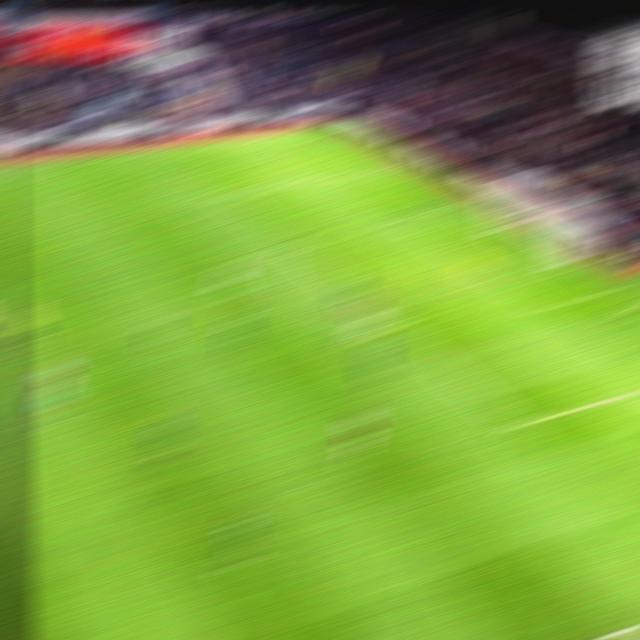bigarea_bottom_inner: (497, 413, 534, 433)
bigarea_top_inner: (208, 186, 240, 200)
bigarea_top_outter: (369, 161, 400, 173)
bottom_arc_area_intersection: (376, 320, 408, 333)
corner: (299, 126, 331, 133)
smallarea_bottom_inner: (529, 296, 561, 312)
smallarea_bottom_outter: (592, 283, 623, 296)
smallarea_top_inner: (386, 211, 415, 221)
smallarea_top_outter: (437, 199, 468, 211)
top_arc_area_intersection: (274, 238, 304, 251)
